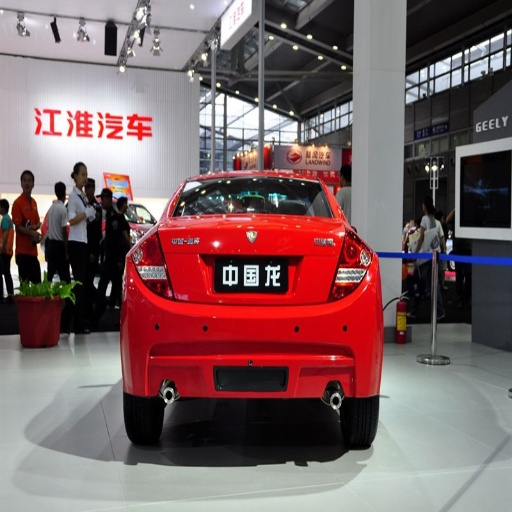back_bumper: (126, 281, 379, 393)
tailgate: (158, 215, 332, 302)
trunk: (156, 222, 346, 338)
